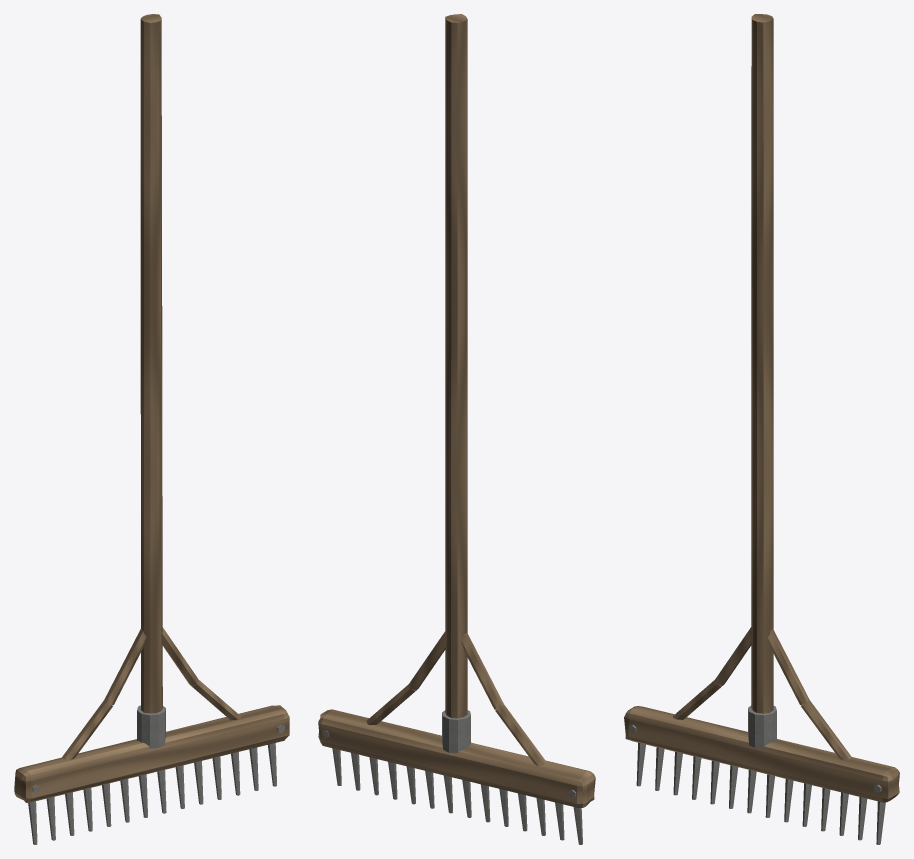
File: garden_rake.glb
3 renders of one model, left to right at view 1: azimuth 30°, elevation 25°; view 2: azimuth 150°, elevation 25°; view 3: azimuth 330°, elevation 25°, orthographic.
Visible parts, largest first — view 1: GardenRake; view 2: GardenRake; view 3: GardenRake.
Boxes of the visible parts, <box> form: GardenRake: <box>14,14,289,844</box>; GardenRake: <box>318,14,595,844</box>; GardenRake: <box>624,14,899,844</box>.
Bounding box in the file's own units: 0.5019 × 1.43 × 0.05.
2 materials, 2 textured.
